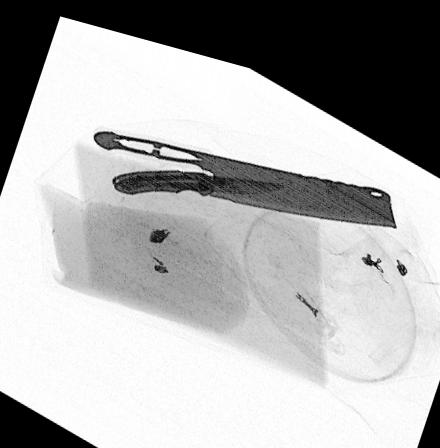Knife: (91, 117, 396, 207), (110, 158, 284, 186)
